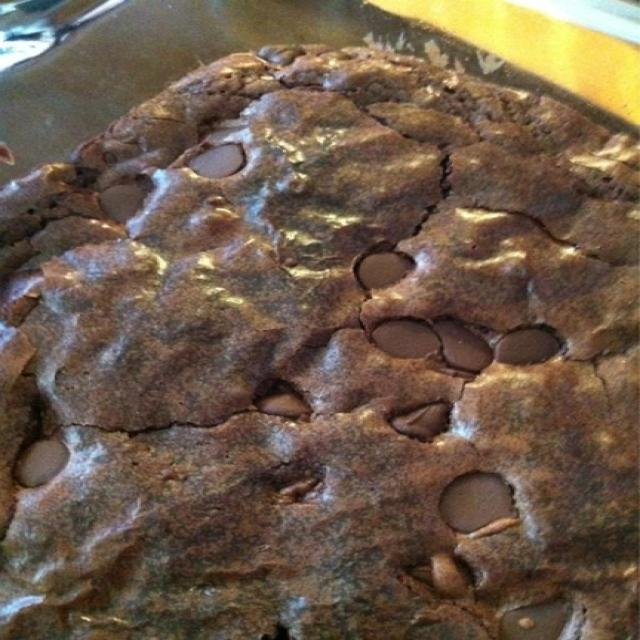蛋糕甜品: (15, 37, 615, 621)
